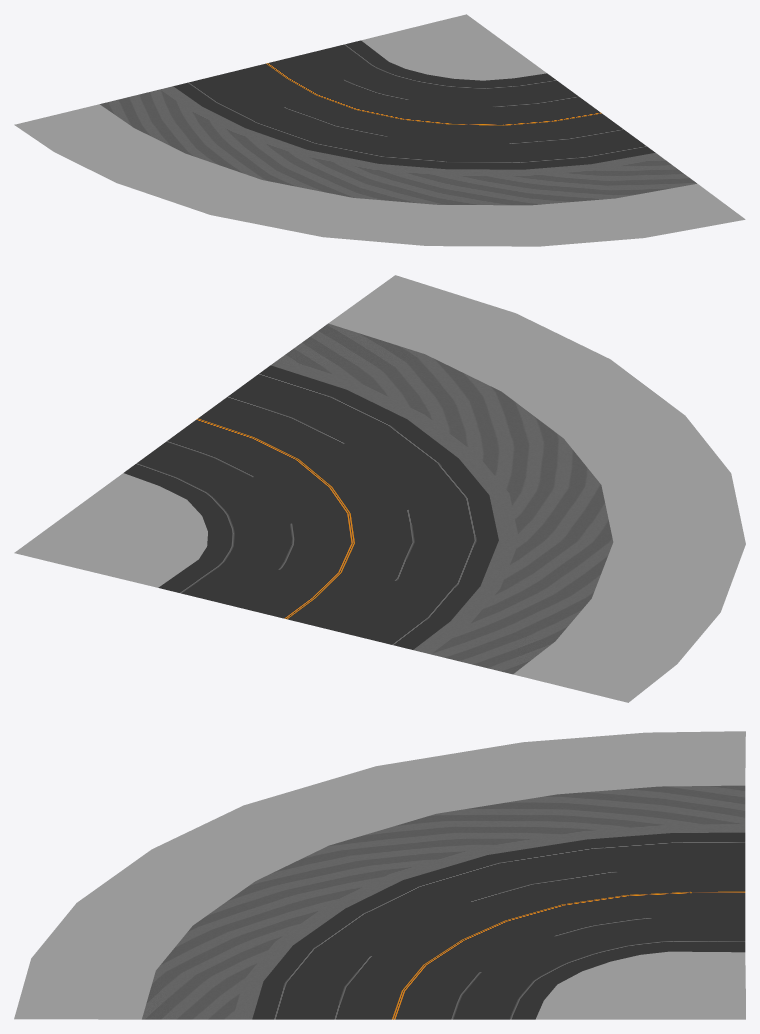
The model's file is SmallTurn.fbx.
The picture shows the model from 3 angles, top to bottom: view 1: azimuth 30°, elevation 25°; view 2: azimuth 150°, elevation 25°; view 3: azimuth 270°, elevation 25°; orthographic projection. The views are drawn at different scales.
Visible parts, largest first — view 1: road_smallturn, mallturnBacksideR, mallturnBacksideR1; view 2: road_smallturn, mallturnBacksideR, mallturnBacksideR1; view 3: road_smallturn, mallturnBacksideR, mallturnBacksideR1.
Part boxes in pixels (left/top/right/bottom): road_smallturn: left=100, top=40, right=696, bottom=205; mallturnBacksideR: left=14, top=104, right=745, bottom=246; mallturnBacksideR1: left=361, top=14, right=546, bottom=80; road_smallturn: left=124, top=323, right=613, bottom=674; mallturnBacksideR: left=328, top=275, right=745, bottom=702; mallturnBacksideR1: left=14, top=473, right=207, bottom=587; road_smallturn: left=142, top=785, right=745, bottom=1019; mallturnBacksideR: left=14, top=731, right=745, bottom=1019; mallturnBacksideR1: left=535, top=951, right=745, bottom=1019.
Size of the model in its own units: 4740 by 0.000244 by 5081.
